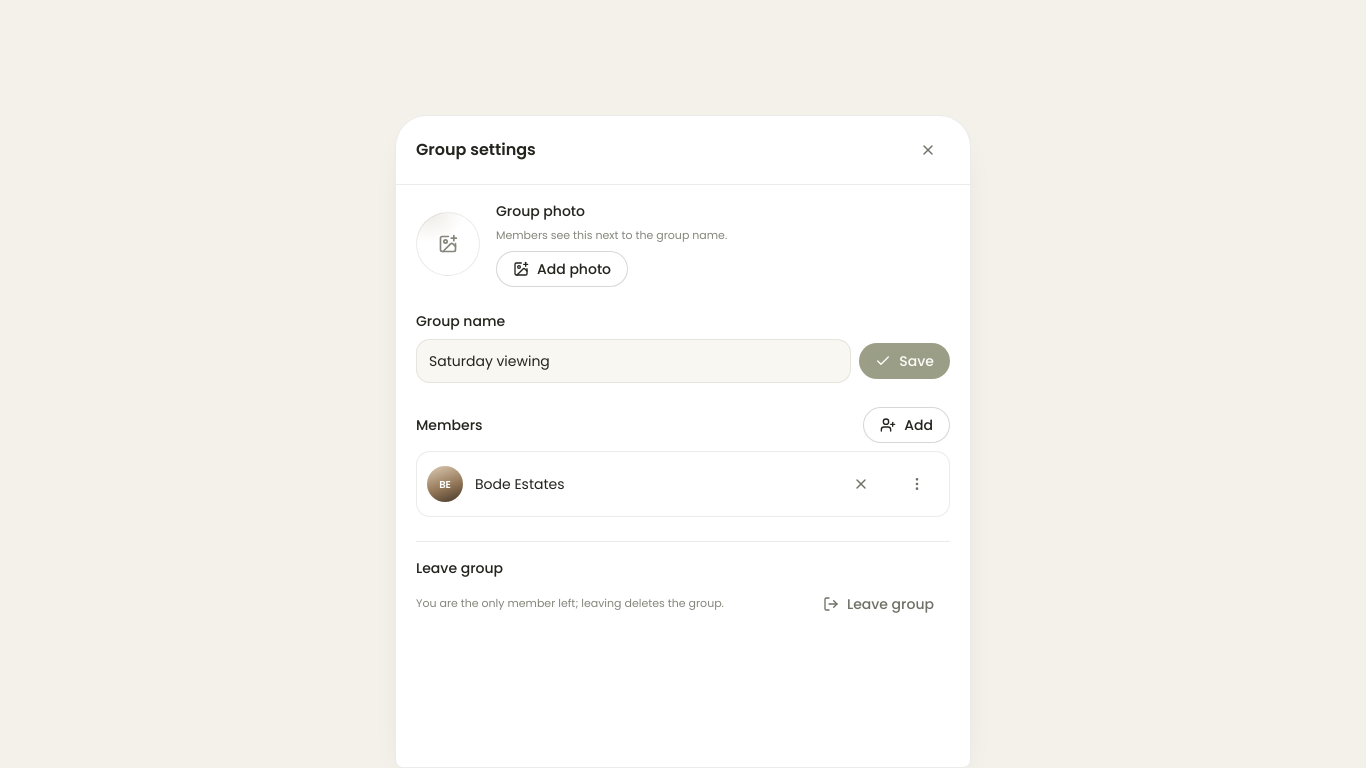
Test: group member safety › says there is nothing to report for a member without a roommate profile
The width and height of the screenshot is (1366, 768).
Click the button named "Options for Bode Estates" at coordinates (917, 484), box [895,462,939,506]
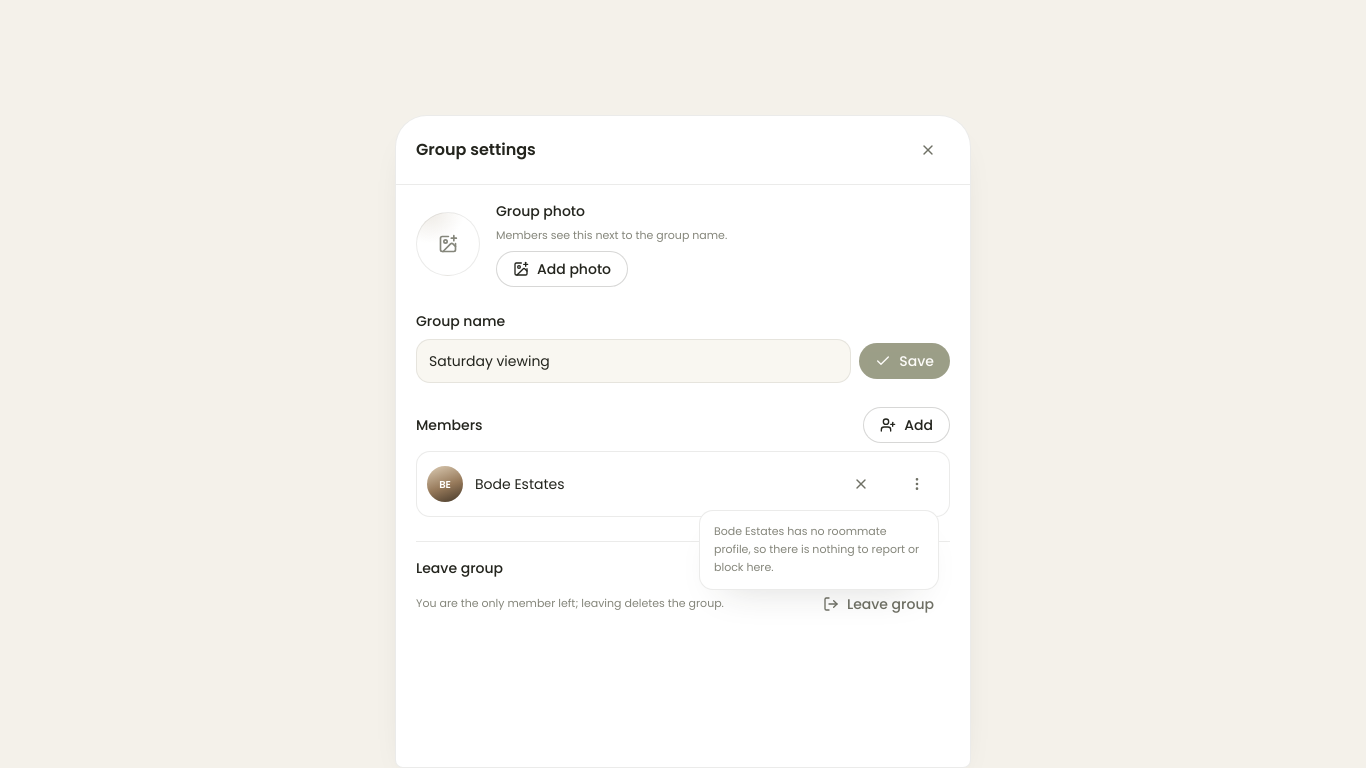
Now the text "has no roommate profile, so there is nothing to report" is shown, box [714,523,919,575]
